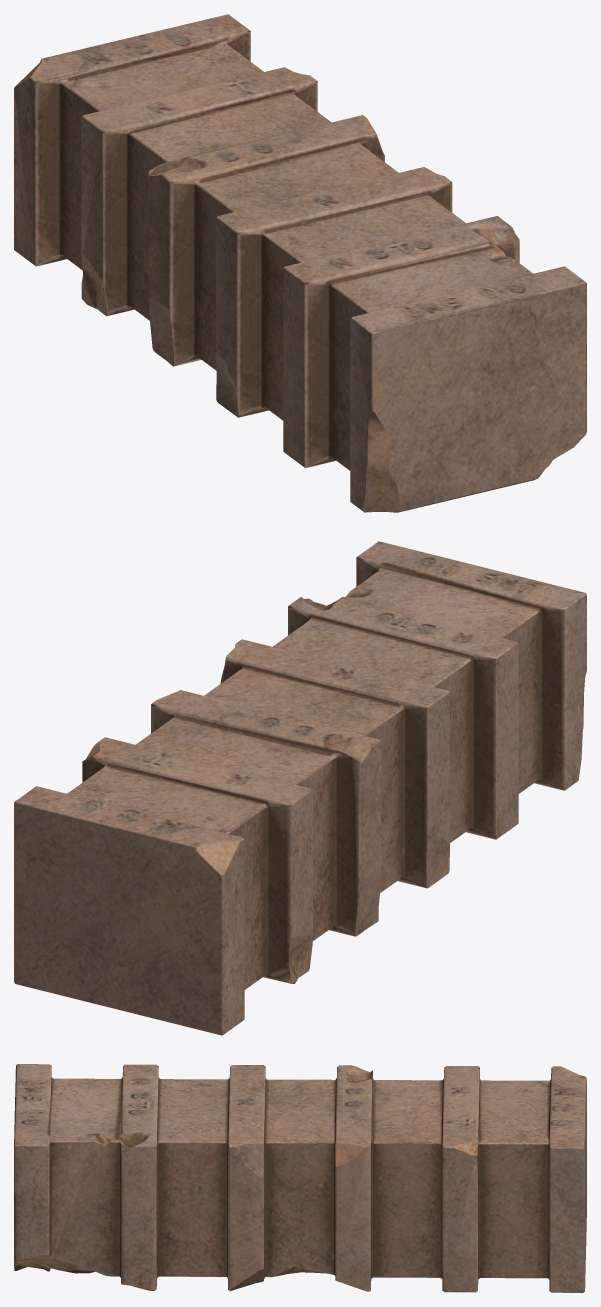
Rendered from MOD_DebrisBricks_A.fbx.
3 views of the same model, one above another, from view 1: azimuth 30°, elevation 25°; view 2: azimuth 150°, elevation 25°; view 3: azimuth 270°, elevation 25° (orthographic). The views are drawn at different scales.
Visible parts, largest first — view 1: MOD_DebrisBricks_A; view 2: MOD_DebrisBricks_A; view 3: MOD_DebrisBricks_A.
Boxes of the visible parts, x1,y1,x2,y2 form: MOD_DebrisBricks_A: (14, 14, 586, 512); MOD_DebrisBricks_A: (14, 541, 586, 1035); MOD_DebrisBricks_A: (14, 1064, 586, 1292).
Bounding box in the file's own units: 11.56 × 9.31 × 33.16.
